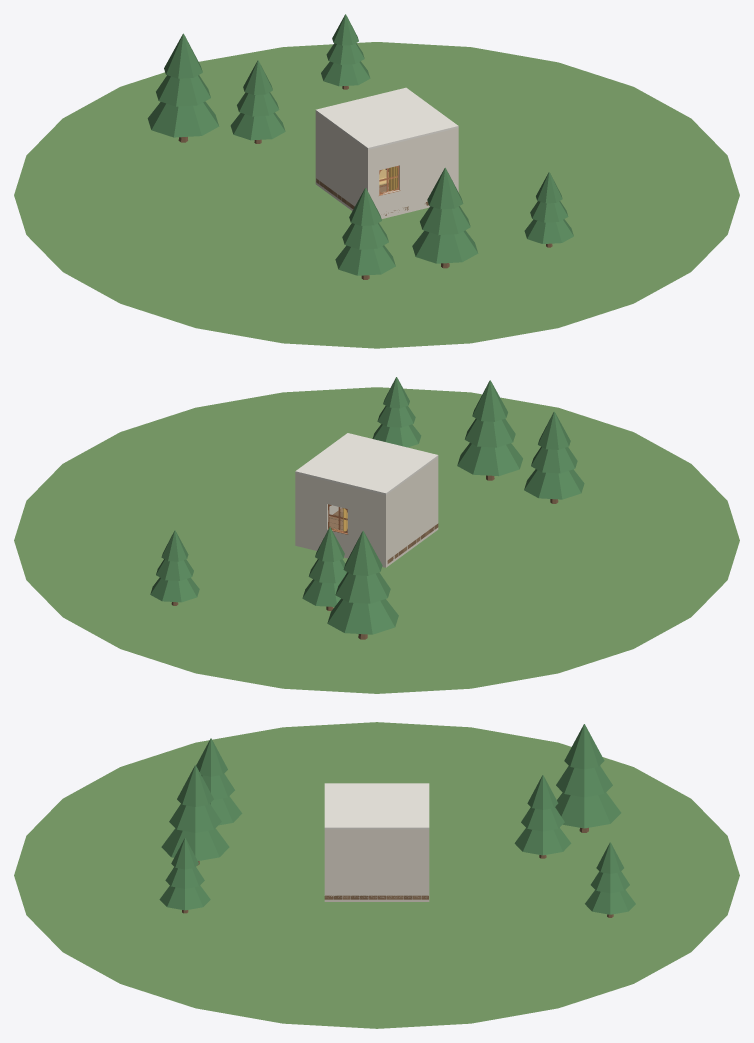
The model's file is looksay_room.glb.
The picture shows the model from 3 angles, top to bottom: view 1: azimuth 30°, elevation 25°; view 2: azimuth 150°, elevation 25°; view 3: azimuth 270°, elevation 25°; orthographic projection.
Visible parts, largest first — view 1: GardenGround, Ceiling, GardenPine1_fol, GardenPine3_fol, WallS_R, WallW, GardenPine5_fol, GardenPine0_fol, GardenPine2_fol, GardenPine4_fol, WallS_L; view 2: GardenGround, Ceiling, GardenPine1_fol, GardenPine3_fol, WallW, GardenPine5_fol, WallN_L, WallN_R, GardenPine0_fol, GardenPine2_fol, GardenPine4_fol; view 3: GardenGround, WallE, Ceiling, GardenPine1_fol, GardenPine3_fol, GardenPine0_fol, GardenPine2_fol, GardenPine4_fol, GardenPine5_fol, PlankFloor.
Part boxes in pixels (box(x1,y1,x2,y2)): GardenGround: box(14, 42, 739, 348); Ceiling: box(315, 87, 458, 149); GardenPine1_fol: box(147, 33, 219, 137); GardenPine3_fol: box(412, 167, 478, 263); WallS_R: box(398, 128, 458, 214); WallW: box(317, 113, 366, 210); GardenPine5_fol: box(335, 188, 395, 275); GardenPine0_fol: box(230, 60, 285, 140); GardenPine2_fol: box(321, 14, 370, 86); GardenPine4_fol: box(524, 172, 573, 243); WallS_L: box(366, 147, 379, 212); GardenGround: box(14, 387, 739, 693); Ceiling: box(295, 433, 438, 494); GardenPine1_fol: box(327, 531, 398, 634); GardenPine3_fol: box(457, 380, 522, 476); WallW: box(387, 458, 436, 566); GardenPine5_fol: box(524, 411, 584, 499); WallN_L: box(347, 486, 387, 567); WallN_R: box(295, 473, 328, 550); GardenPine0_fol: box(302, 527, 347, 606); GardenPine2_fol: box(150, 530, 199, 602); GardenPine4_fol: box(372, 377, 421, 447); GardenGround: box(14, 722, 739, 1028); WallE: box(327, 829, 426, 901); Ceiling: box(324, 783, 429, 829); GardenPine1_fol: box(555, 724, 621, 828); GardenPine3_fol: box(161, 765, 229, 860); GardenPine0_fol: box(514, 775, 571, 855); GardenPine2_fol: box(585, 842, 635, 914); GardenPine4_fol: box(159, 838, 210, 910); GardenPine5_fol: box(196, 738, 242, 825); PlankFloor: box(324, 895, 428, 899).
Size of the model in its own units: 28 by 4.57 by 28.
